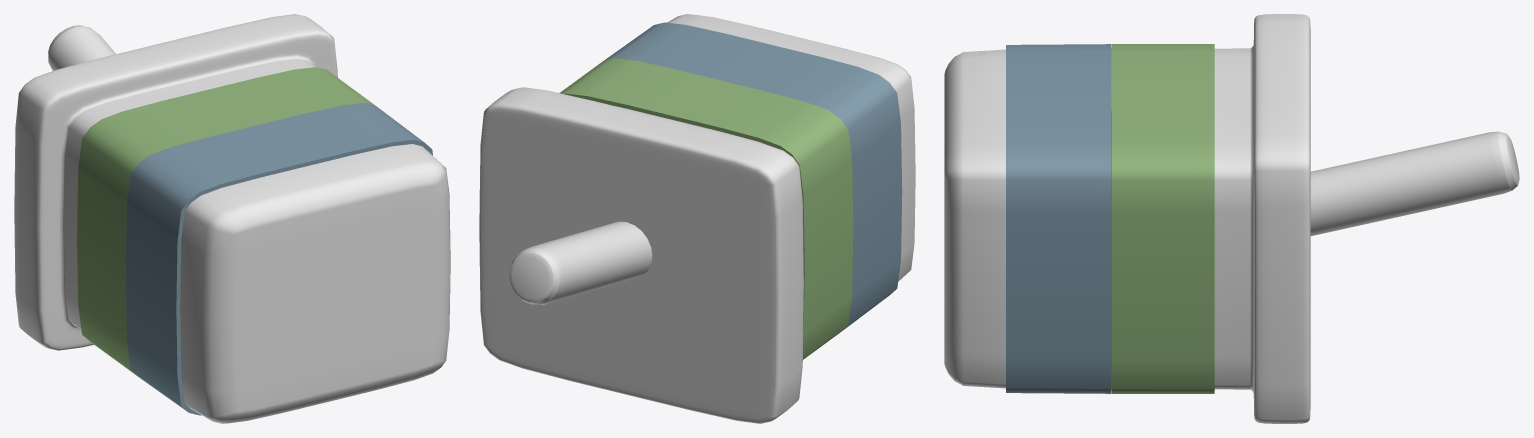
The picture shows the model from 3 angles, left to right: view 1: azimuth 30°, elevation 25°; view 2: azimuth 150°, elevation 25°; view 3: azimuth 270°, elevation 25°; orthographic projection. The views are drawn at different scales.
Visible parts, largest first — view 1: nai; view 2: nai; view 3: nai.
Part boxes in pixels (bbox=[...]): nai: bbox=[14, 14, 450, 423]; nai: bbox=[479, 14, 915, 423]; nai: bbox=[944, 14, 1519, 423].
Bounding box in the file's own units: 8.12 × 6.79 × 12.54.
